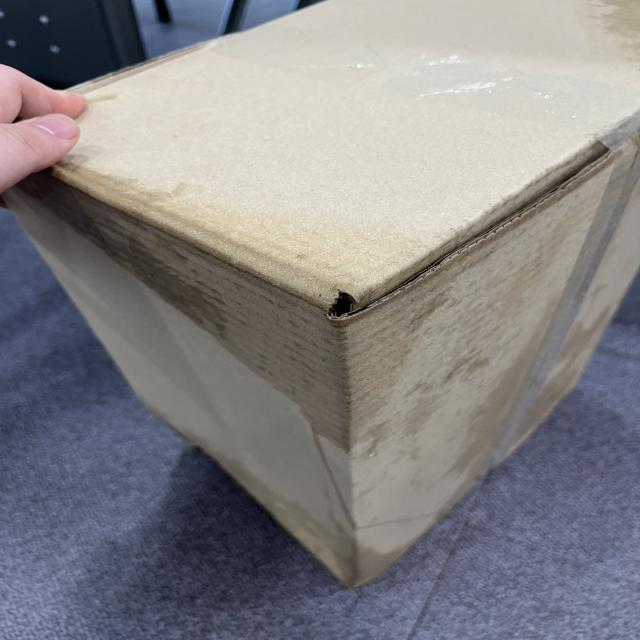wet: (53, 158, 615, 444)
